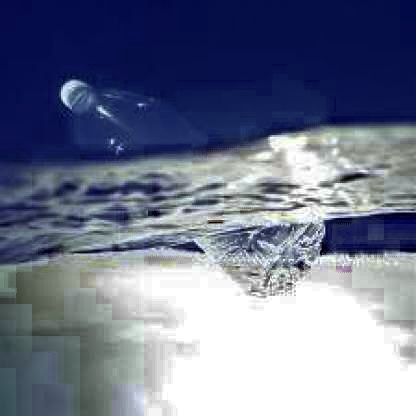pbottle: (54, 72, 331, 305)
